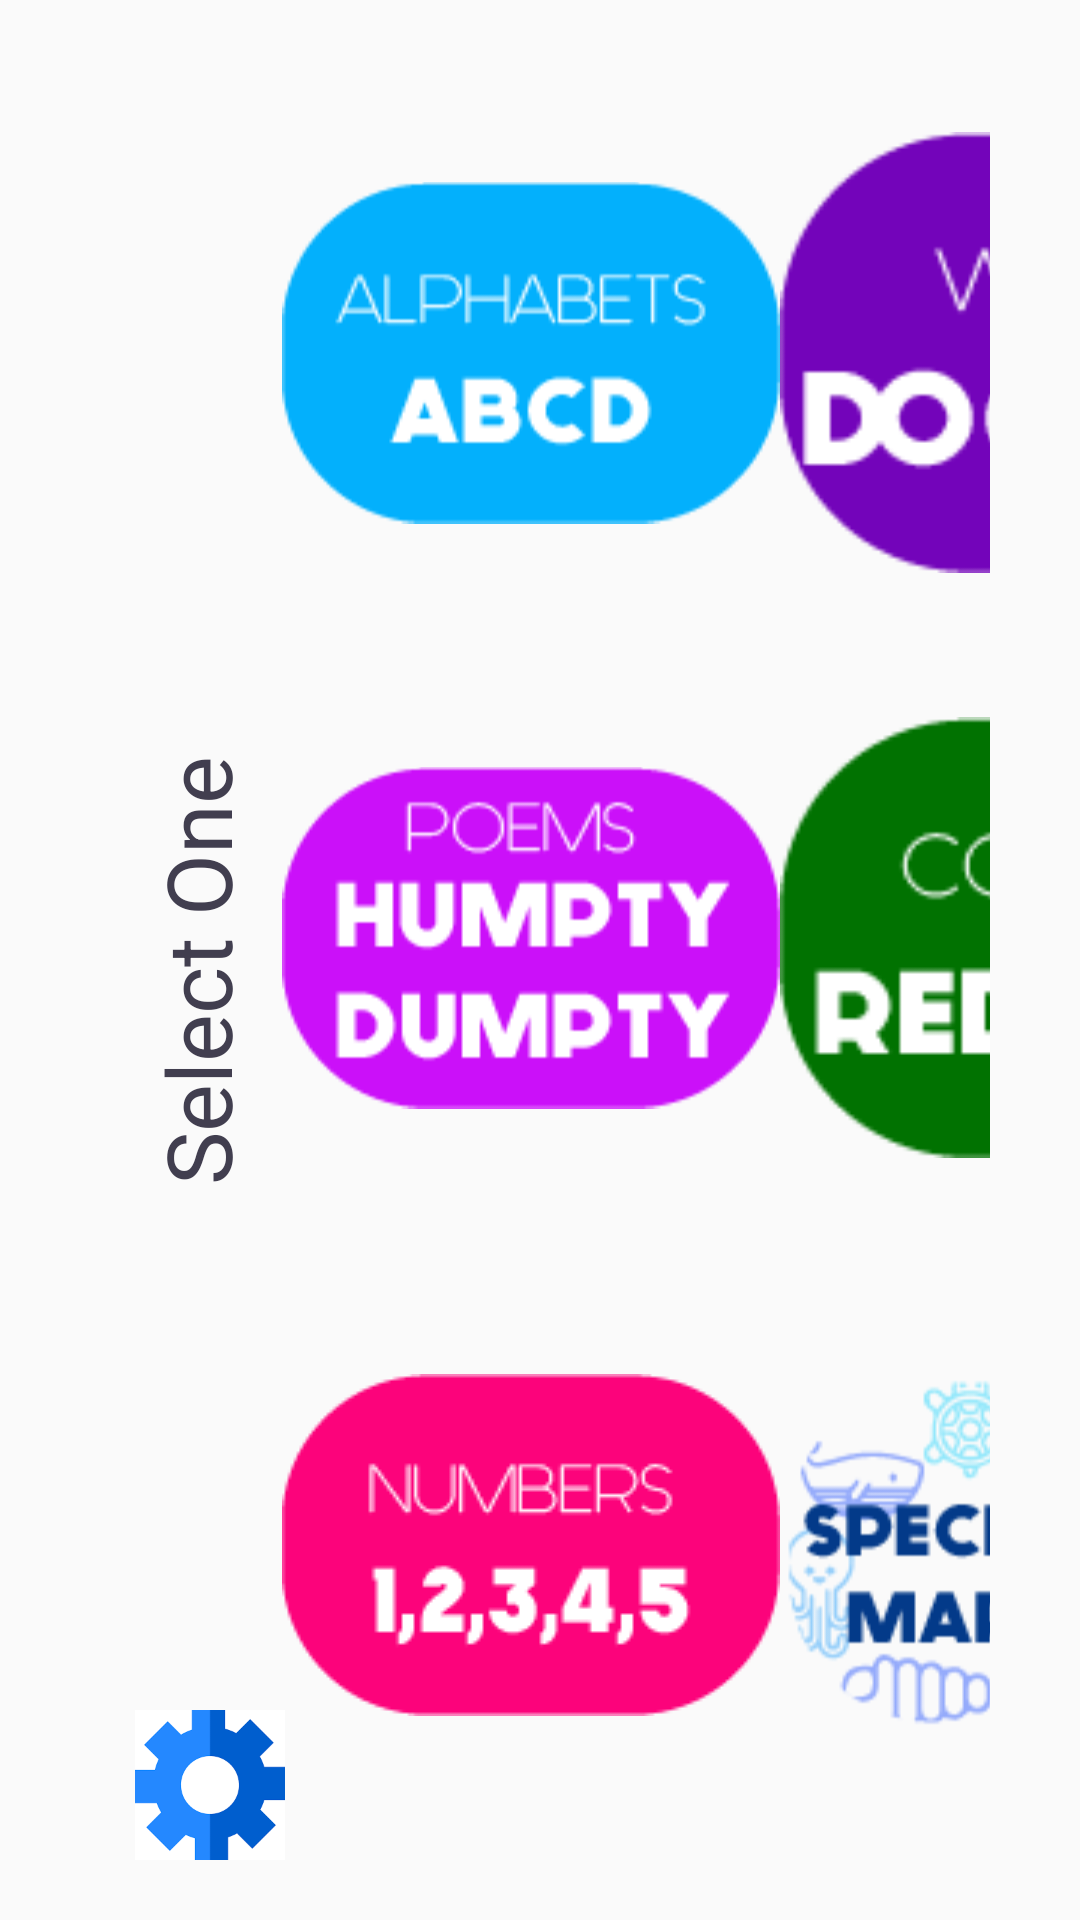

Icons on this 1080x1920 Android screen, each with its box as [x1, y1, x2, y2]:
settings: [135, 1710, 285, 1860]
